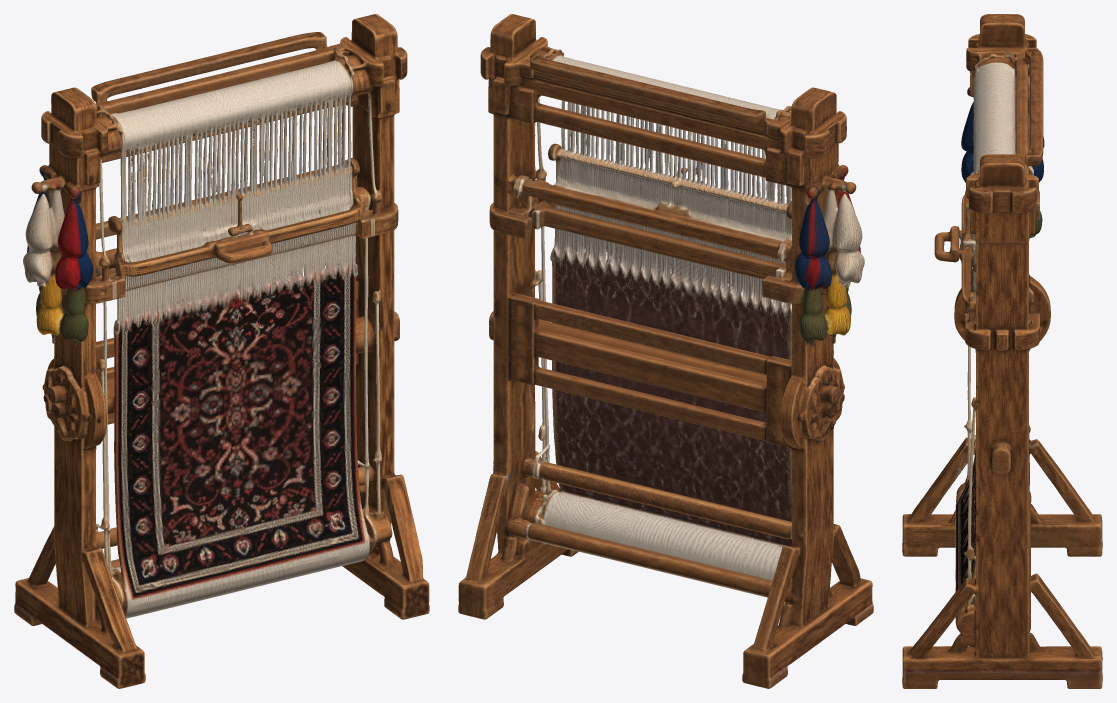
The model's file is polonez.glb.
3 renders of one model, left to right at view 1: azimuth 30°, elevation 25°; view 2: azimuth 150°, elevation 25°; view 3: azimuth 270°, elevation 25°, orthographic. The views are drawn at different scales.
Bounding box in the file's own units: 1.32 × 1.9 × 0.6505.
Materials: 1 (1 with a texture image).
